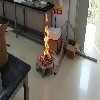fire: (41, 14, 51, 61)
